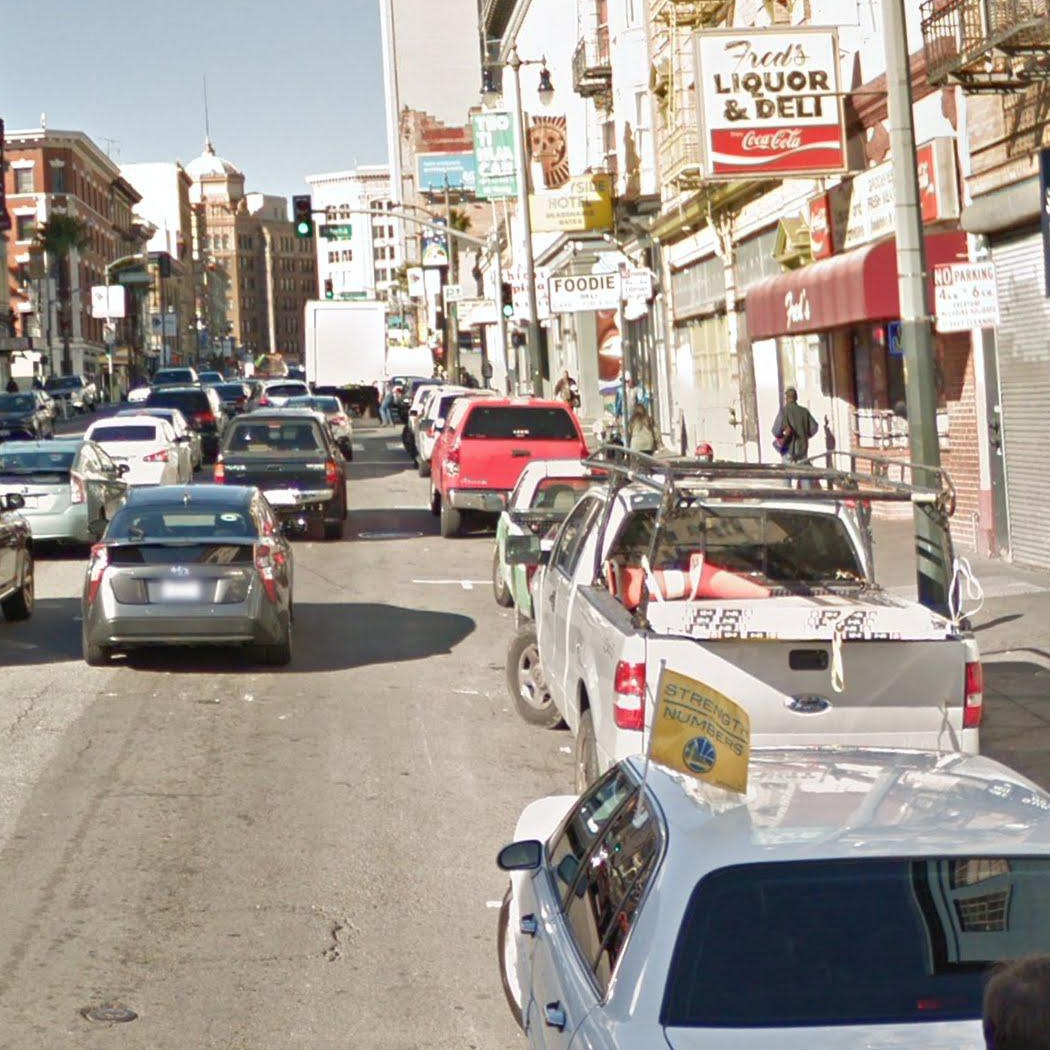No Parking: (930, 260, 1002, 335)
